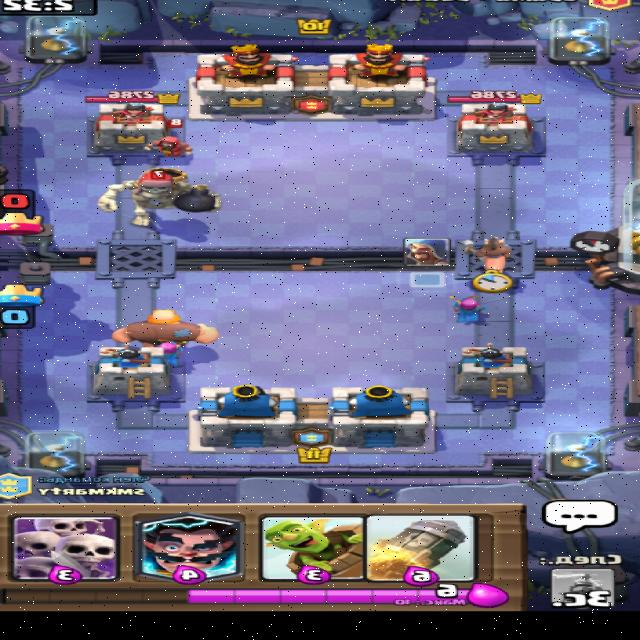Enemy-GiantSkeleton: (96, 166, 225, 228)
Enemy-Wizard: (145, 118, 197, 158)
Player-Archer: (448, 293, 491, 322), (156, 339, 189, 367)
Player-Giant: (110, 309, 221, 346)
Player-HogRider: (460, 236, 514, 273)
